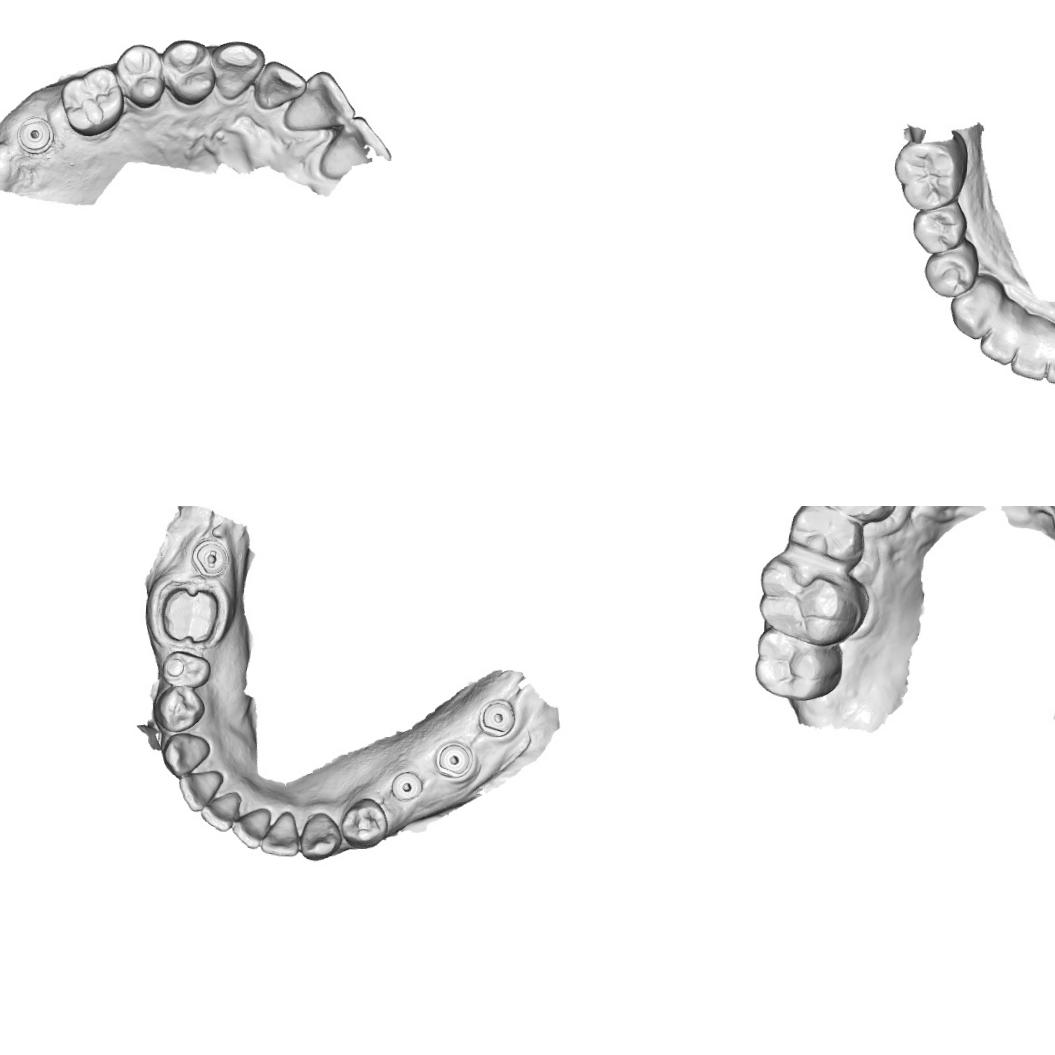canine: (206, 36, 266, 105), (948, 271, 1005, 341), (160, 730, 212, 779), (298, 810, 343, 861)
crown: (155, 580, 223, 647)
implant: (432, 738, 474, 779), (15, 112, 54, 156), (476, 697, 516, 738), (389, 769, 423, 803)
implant_minus: (188, 535, 230, 579)
incisor: (280, 66, 358, 137), (316, 111, 392, 180), (252, 57, 308, 114), (976, 296, 1020, 368), (1008, 313, 1050, 381), (175, 768, 224, 814), (258, 809, 300, 858), (198, 786, 242, 832), (230, 805, 272, 850), (1044, 325, 1055, 386)
molar: (753, 550, 872, 649), (750, 631, 846, 703), (890, 135, 970, 213), (57, 62, 128, 140)
premolar: (783, 506, 868, 566), (156, 34, 218, 108), (110, 39, 168, 111), (922, 238, 980, 299), (910, 202, 968, 255), (339, 794, 390, 850), (151, 683, 206, 733), (160, 648, 212, 689), (812, 506, 899, 524)
